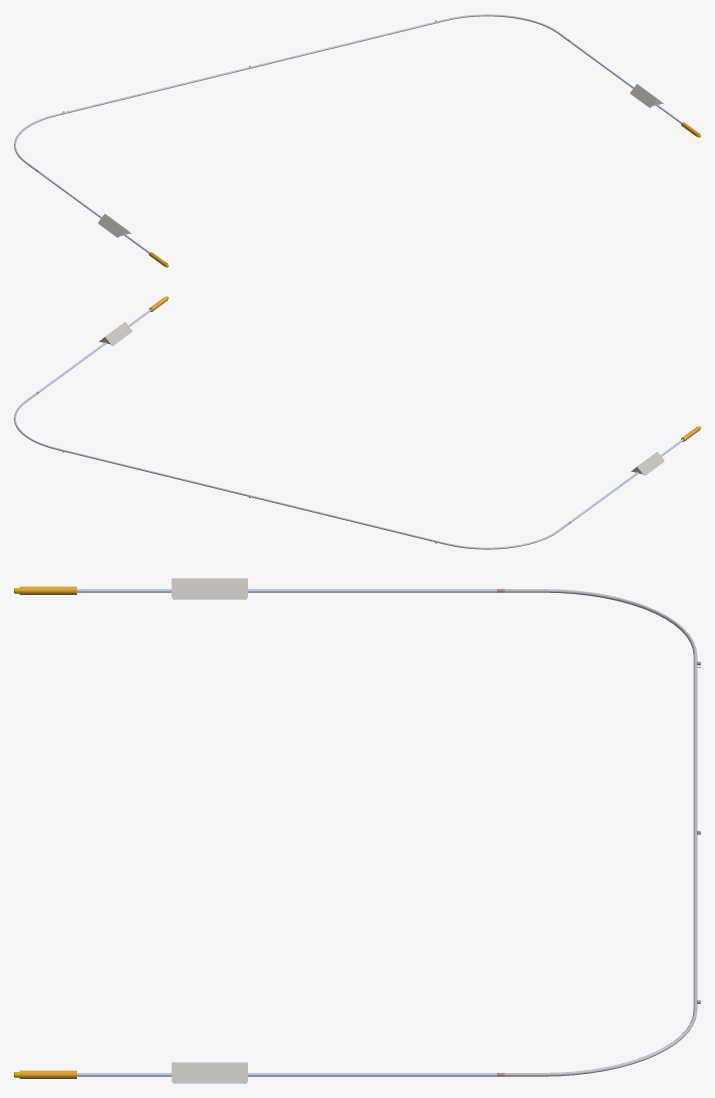
The model's file is ALIANÇA.glb.
The picture shows the model from 3 angles, top to bottom: view 1: azimuth 30°, elevation 25°; view 2: azimuth 150°, elevation 25°; view 3: azimuth 270°, elevation 25°; orthographic projection. The views are drawn at different scales.
Parts seen in each view (by area): view 1: 1 (C-Component1); view 2: 1 (C-Component1); view 3: 1 (C-Component1), 14040187 - REBATEDOR TRIANGULAR - 200MM - G9:1 (C-14040187 -, 14040187 - REBATEDOR TRIANGULAR - 200MM - G9:2 (C-14040187 -, FAB - HASTE ILUMINADA - 1100MM:1 (C-FAB - HASTE ILUMINADA - , FAB - HASTE ILUMINADA - 1100MM:2 (C-FAB - HASTE ILUMINADA - .
Boxes of the visible parts, x1,y1,x2,y2 form: 1 (C-Component1): (14,14,568,169); 1 (C-Component1): (14,393,568,549); 1 (C-Component1): (504,589,697,1076); 14040187 - REBATEDOR TRIANGULAR - 200MM - G9:1 (C-14040187 -: (171,1062,247,1083); 14040187 - REBATEDOR TRIANGULAR - 200MM - G9:2 (C-14040187 -: (171,578,247,599); FAB - HASTE ILUMINADA - 1100MM:1 (C-FAB - HASTE ILUMINADA - : (82,589,496,592); FAB - HASTE ILUMINADA - 1100MM:2 (C-FAB - HASTE ILUMINADA - : (82,1073,496,1076).
Size of the model in its own units: 3.08 by 0.0472 by 1.8.
